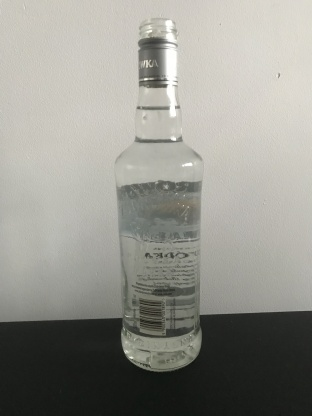nakretka: (136, 15, 179, 88)
